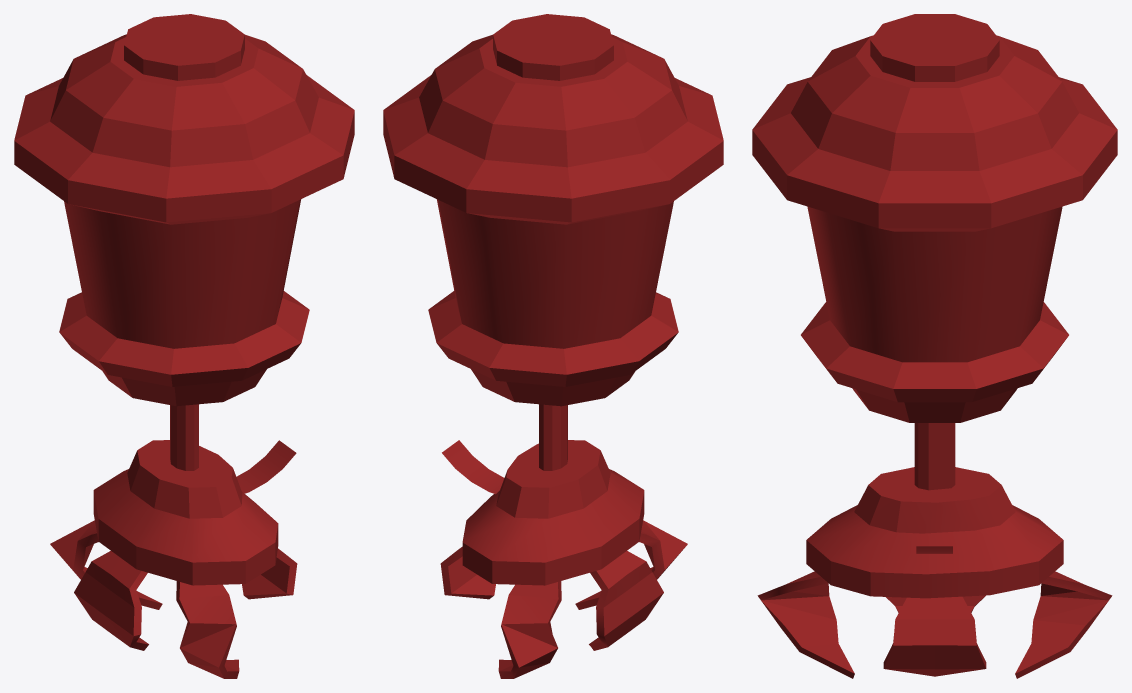
File: BirdLight.fbx
3 views of the same model, side by side, from view 1: azimuth 30°, elevation 25°; view 2: azimuth 150°, elevation 25°; view 3: azimuth 270°, elevation 25° (orthographic). The views are drawn at different scales.
Parts seen in each view (by area): view 1: Cylinder014, Plane008; view 2: Cylinder014, Plane008; view 3: Cylinder014.
Boxes of the visible parts, bbox=[...] form: Cylinder014: bbox=[14, 14, 354, 678]; Plane008: bbox=[236, 440, 296, 493]; Cylinder014: bbox=[383, 14, 723, 678]; Plane008: bbox=[442, 440, 504, 494]; Cylinder014: bbox=[752, 14, 1117, 678].
Bounding box in the file's own units: 30.53 × 61.24 × 32.1.
